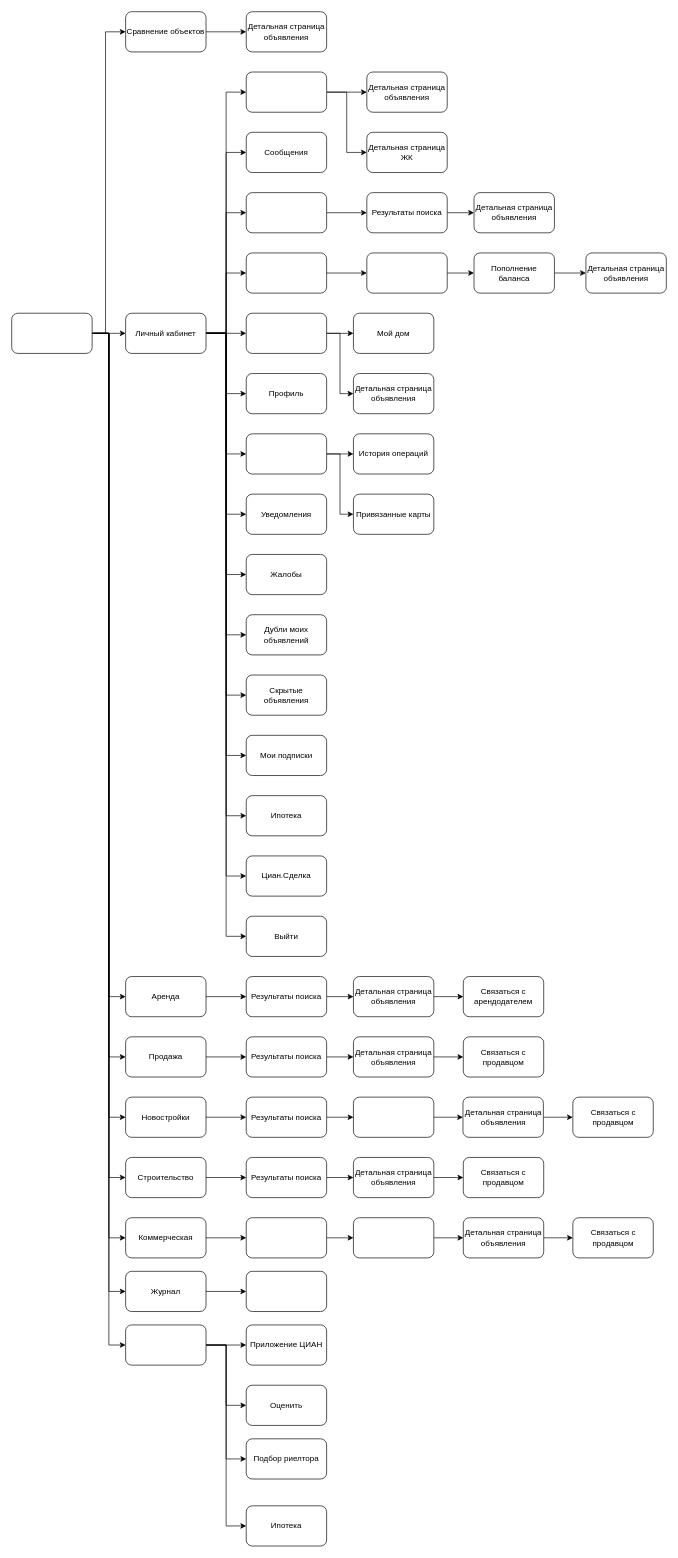
This 678x1558 diagram has some shape labels left out. Here are the shapes that lost their labels. From the top down, the box of each, then its label:
(246, 71, 327, 112): Избранное
(246, 192, 327, 233): Сохраненные поиски
(246, 252, 327, 293): Подать объявление
(366, 252, 447, 293): Заполнение данных
(11, 313, 92, 353): Главный экран
(246, 313, 327, 353): Сводка
(246, 433, 327, 474): Кошелек
(353, 1096, 434, 1137): Описание ЖК
(246, 1217, 327, 1258): Список типов
(353, 1217, 434, 1258): Список объявлений
(246, 1271, 327, 1312): Детальное описание статьи
(125, 1324, 206, 1365): Сервисы
